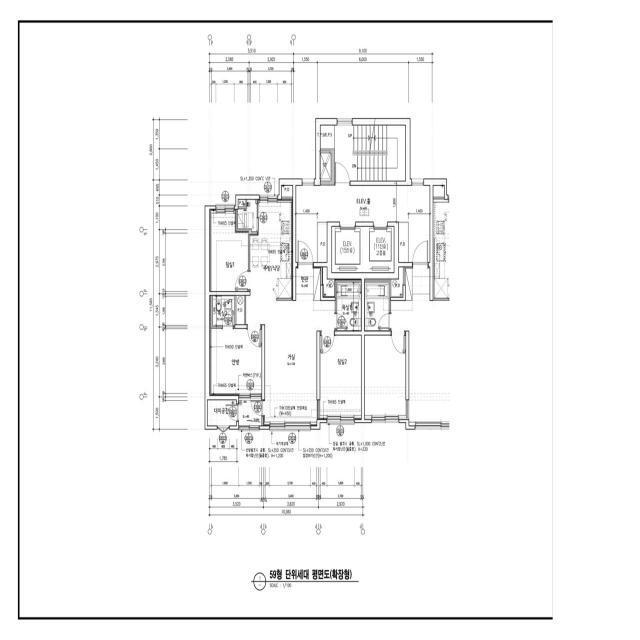space_balconi: (239, 400, 262, 426)
space_bedroom: (210, 328, 262, 395), (320, 336, 361, 419), (210, 209, 248, 291)
space_elevator: (332, 227, 394, 272)
space_elevator_hall: (296, 186, 430, 262)
space_front: (296, 265, 321, 301)
space_kitchen: (250, 199, 293, 301)
space_living_room: (246, 296, 335, 426)
space_other: (207, 400, 236, 426), (238, 200, 257, 232), (317, 223, 327, 262), (399, 223, 408, 262), (323, 267, 334, 296), (320, 153, 331, 181), (236, 296, 244, 324), (282, 186, 292, 197), (238, 200, 246, 207)
space_staircase: (320, 125, 405, 181)
space_toilet: (337, 282, 361, 331), (212, 296, 235, 326)
